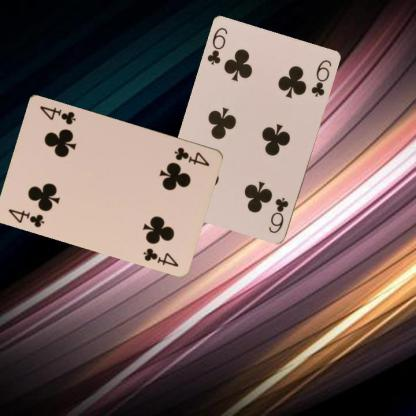4c: (172, 144, 212, 168), (6, 206, 46, 228)
6c: (204, 25, 229, 66), (266, 195, 290, 235)
